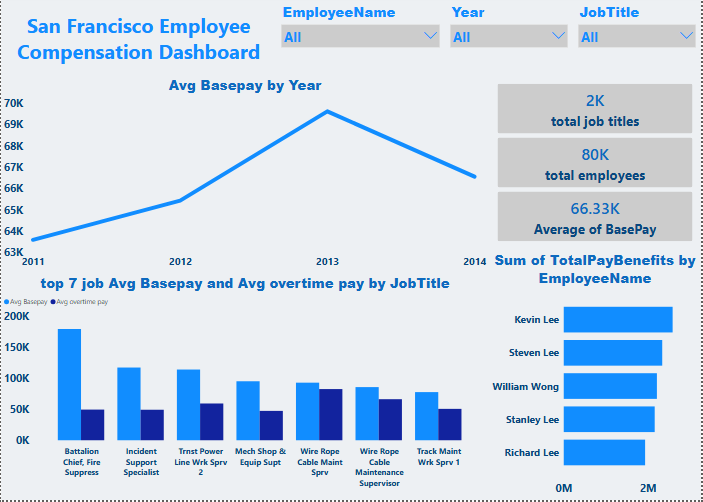

The dashboard page shown, as its layout file describes it:
{"tool":"powerbi","page":{"name":"Page 1","canvas":[1400,1000],"ordinal":0},"visuals":[{"type":"lineChart","fields":{"Y":["Salaries.Avg Basepay"],"Category":["Salaries.Year"]},"box":[0,150,976,396],"z":0},{"type":"shape","box":[0,0,550,150],"z":1000},{"type":"slicer","fields":{"Values":["Salaries.EmployeeName"]},"box":[550,0,338,150],"z":2000},{"type":"slicer","fields":{"Values":["Salaries.Year"]},"box":[888,0,256,150],"z":3000},{"type":"slicer","fields":{"Values":["Salaries.JobTitle"]},"box":[1144,0,256,150],"z":4000},{"type":"cardVisual","fields":{"Data":["Salaries.total job titles","Salaries.total employees","Avg(Salaries.BasePay)"]},"box":[976,150,424,350],"z":5000},{"type":"clusteredColumnChart","title":"top 7 job Avg Basepay and Avg overtime pay by JobTitle","fields":{"Category":["Salaries.JobTitle"],"Y":["Salaries.Avg Basepay","Salaries.Avg overtime pay"]},"box":[0,546,976,438],"z":6000},{"type":"clusteredBarChart","fields":{"Y":["Sum(Salaries.TotalPayBenefits)"],"Category":["Salaries.EmployeeName"]},"box":[976,500,424,500],"z":7000}]}

Visuals, with their boxes in screenshot pixels (x1, y1, x2, y2), scaled from the page's 1400x1000 canvas onto the 703x502 screenshot:
lineChart - Salaries.Avg Basepay x Salaries.Year: pyautogui.locateOnScreen(0, 75, 490, 274)
shape: pyautogui.locateOnScreen(0, 0, 276, 75)
slicer - Salaries.EmployeeName: pyautogui.locateOnScreen(276, 0, 446, 75)
slicer - Salaries.Year: pyautogui.locateOnScreen(446, 0, 574, 75)
slicer - Salaries.JobTitle: pyautogui.locateOnScreen(574, 0, 702, 75)
cardVisual - Salaries.total job titles x Salaries.total employees: pyautogui.locateOnScreen(490, 75, 702, 251)
"top 7 job Avg Basepay and Avg overtime pay by JobTitle" clusteredColumnChart: pyautogui.locateOnScreen(0, 274, 490, 494)
clusteredBarChart - Sum(Salaries.TotalPayBenefits) x Salaries.EmployeeName: pyautogui.locateOnScreen(490, 251, 702, 501)
